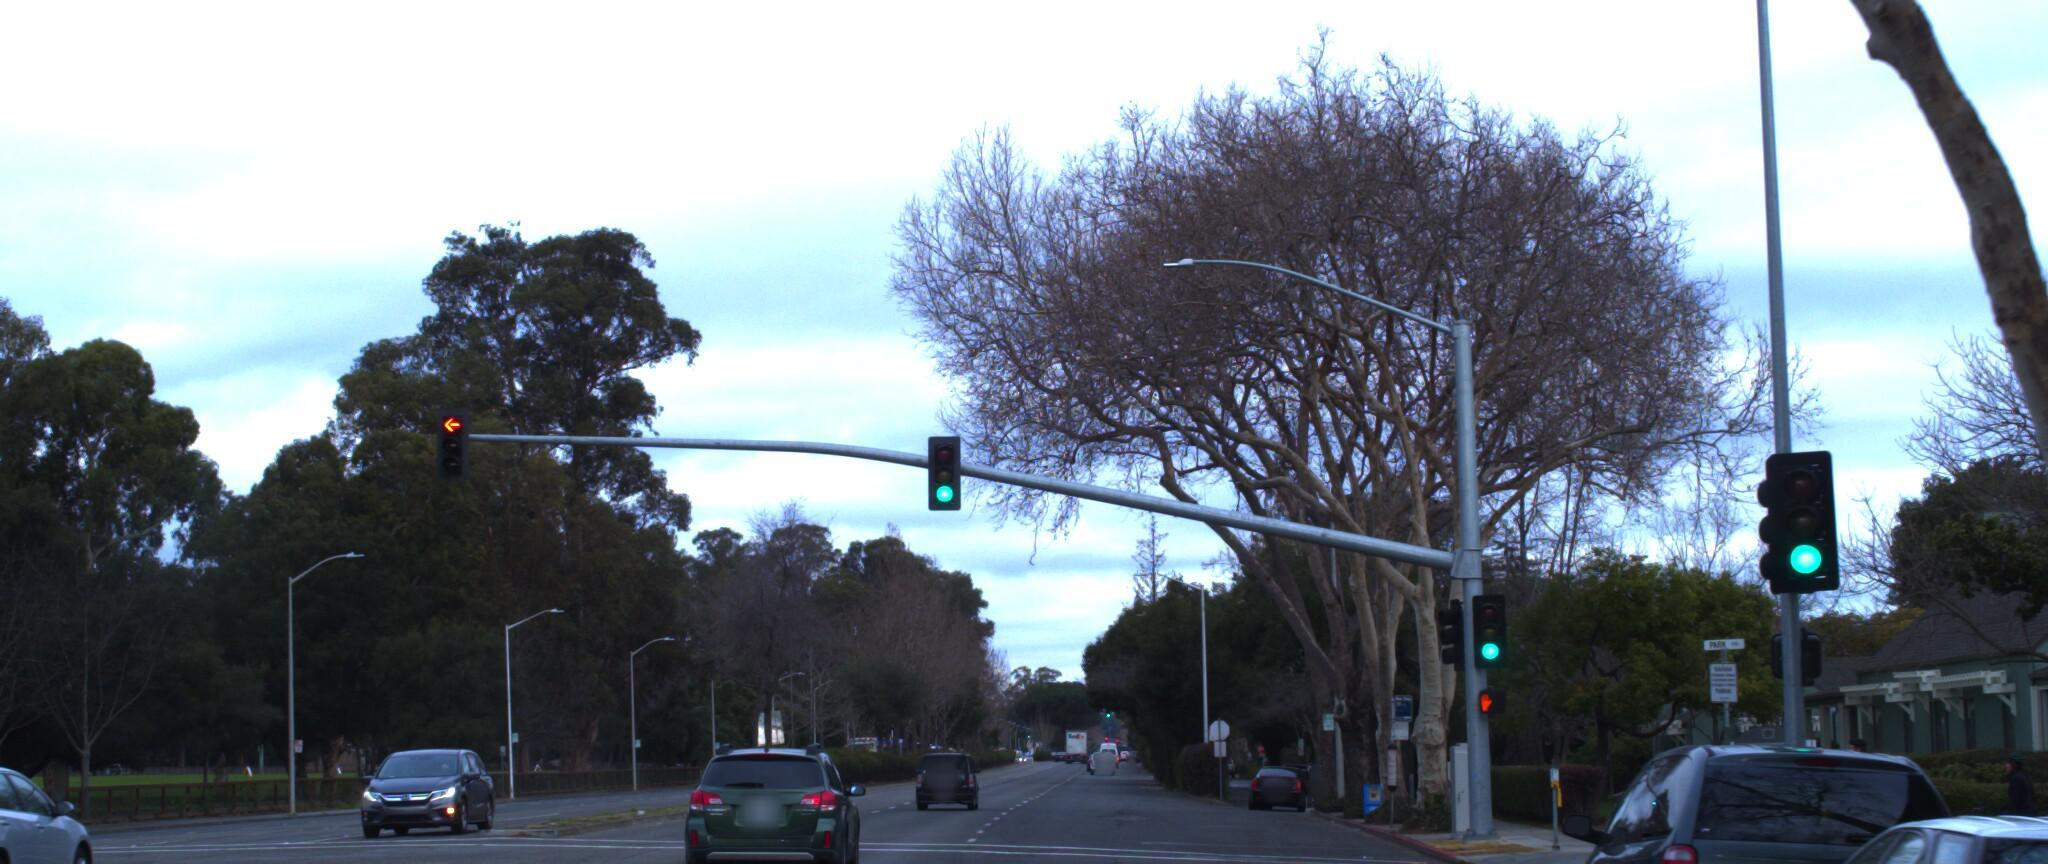bicycle: (1921, 719, 2048, 864)
car: (1539, 707, 2024, 864), (1724, 775, 2048, 864), (692, 720, 880, 864), (0, 743, 131, 864), (354, 724, 508, 825)
